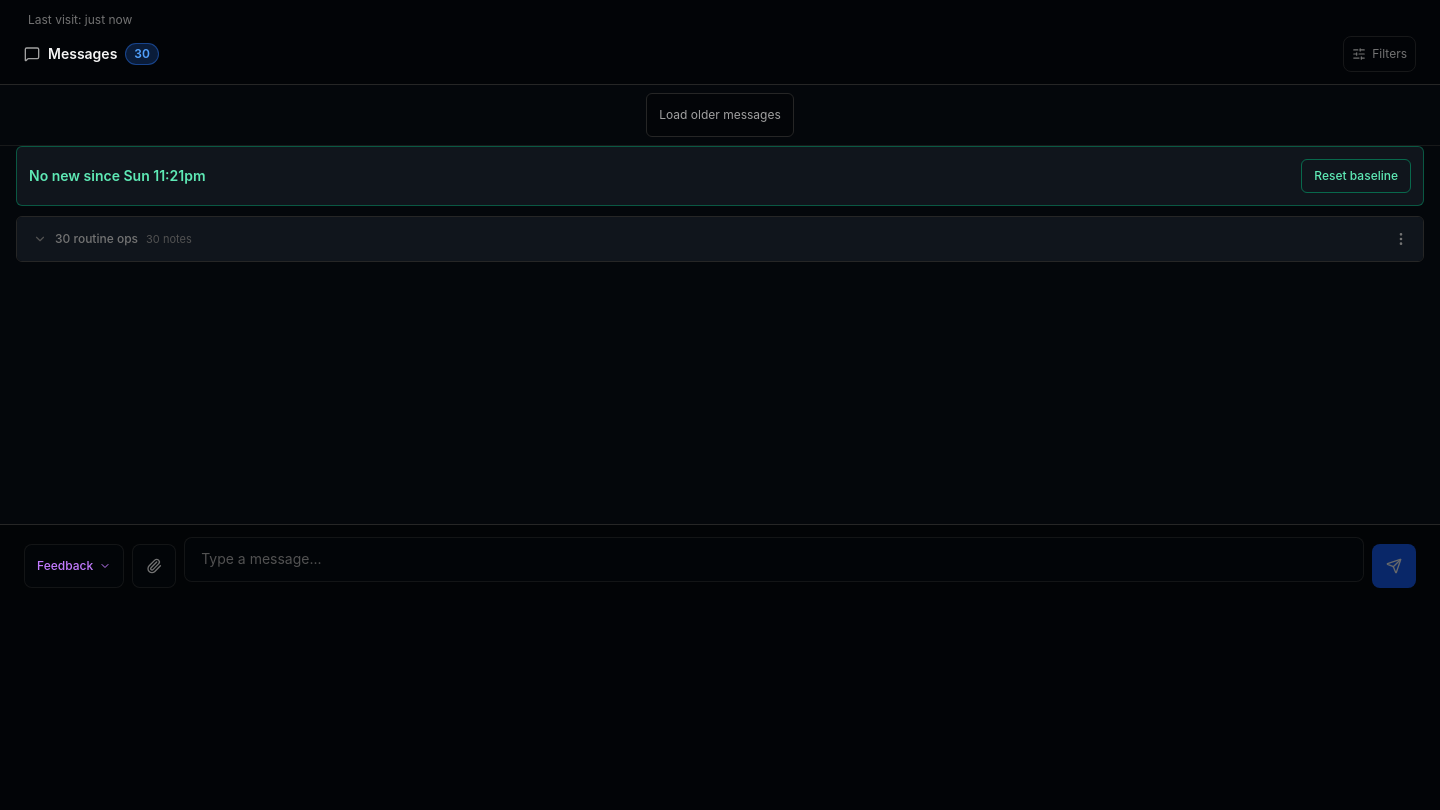
Test: MessagesPanel chrome modes › loads the next triage page from the reachable load-older control
Step 1. Click the button "Load older messages" → x=720, y=115, box [646,93,794,137]
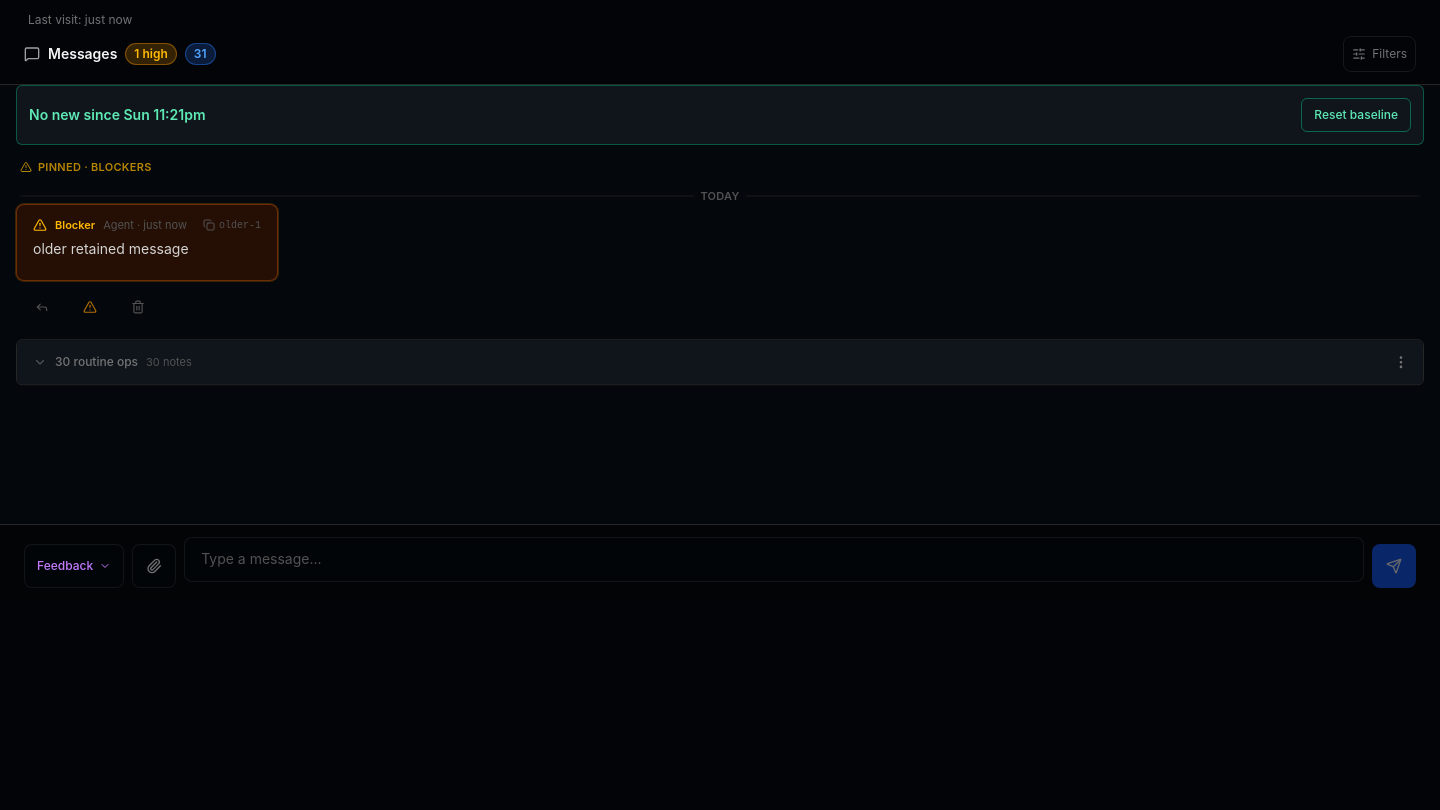
Expected: the text "older retained message" is shown, [33,240,189,256]
